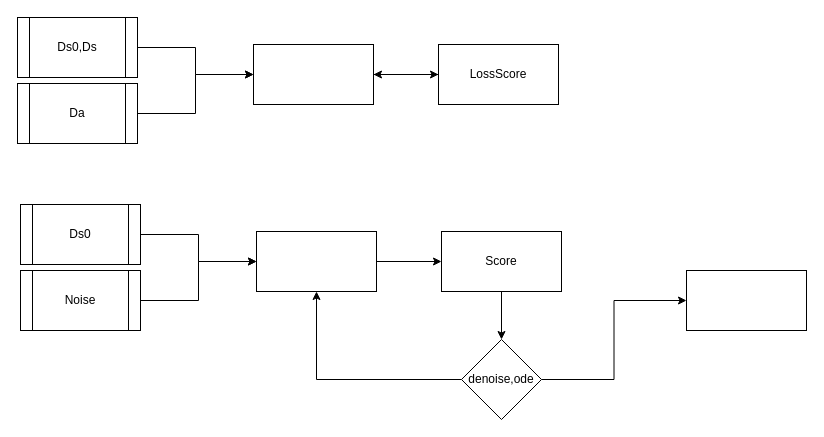
Some shapes in this 824 by 437 pixel diagram are drawn without their labels. Here are the shapes that lost their labels. From the top down, the centre of each, then its label:
At (313,74): "Net:Train".
At (316,261): "Net:Eval".
At (746,300): "Actions".
